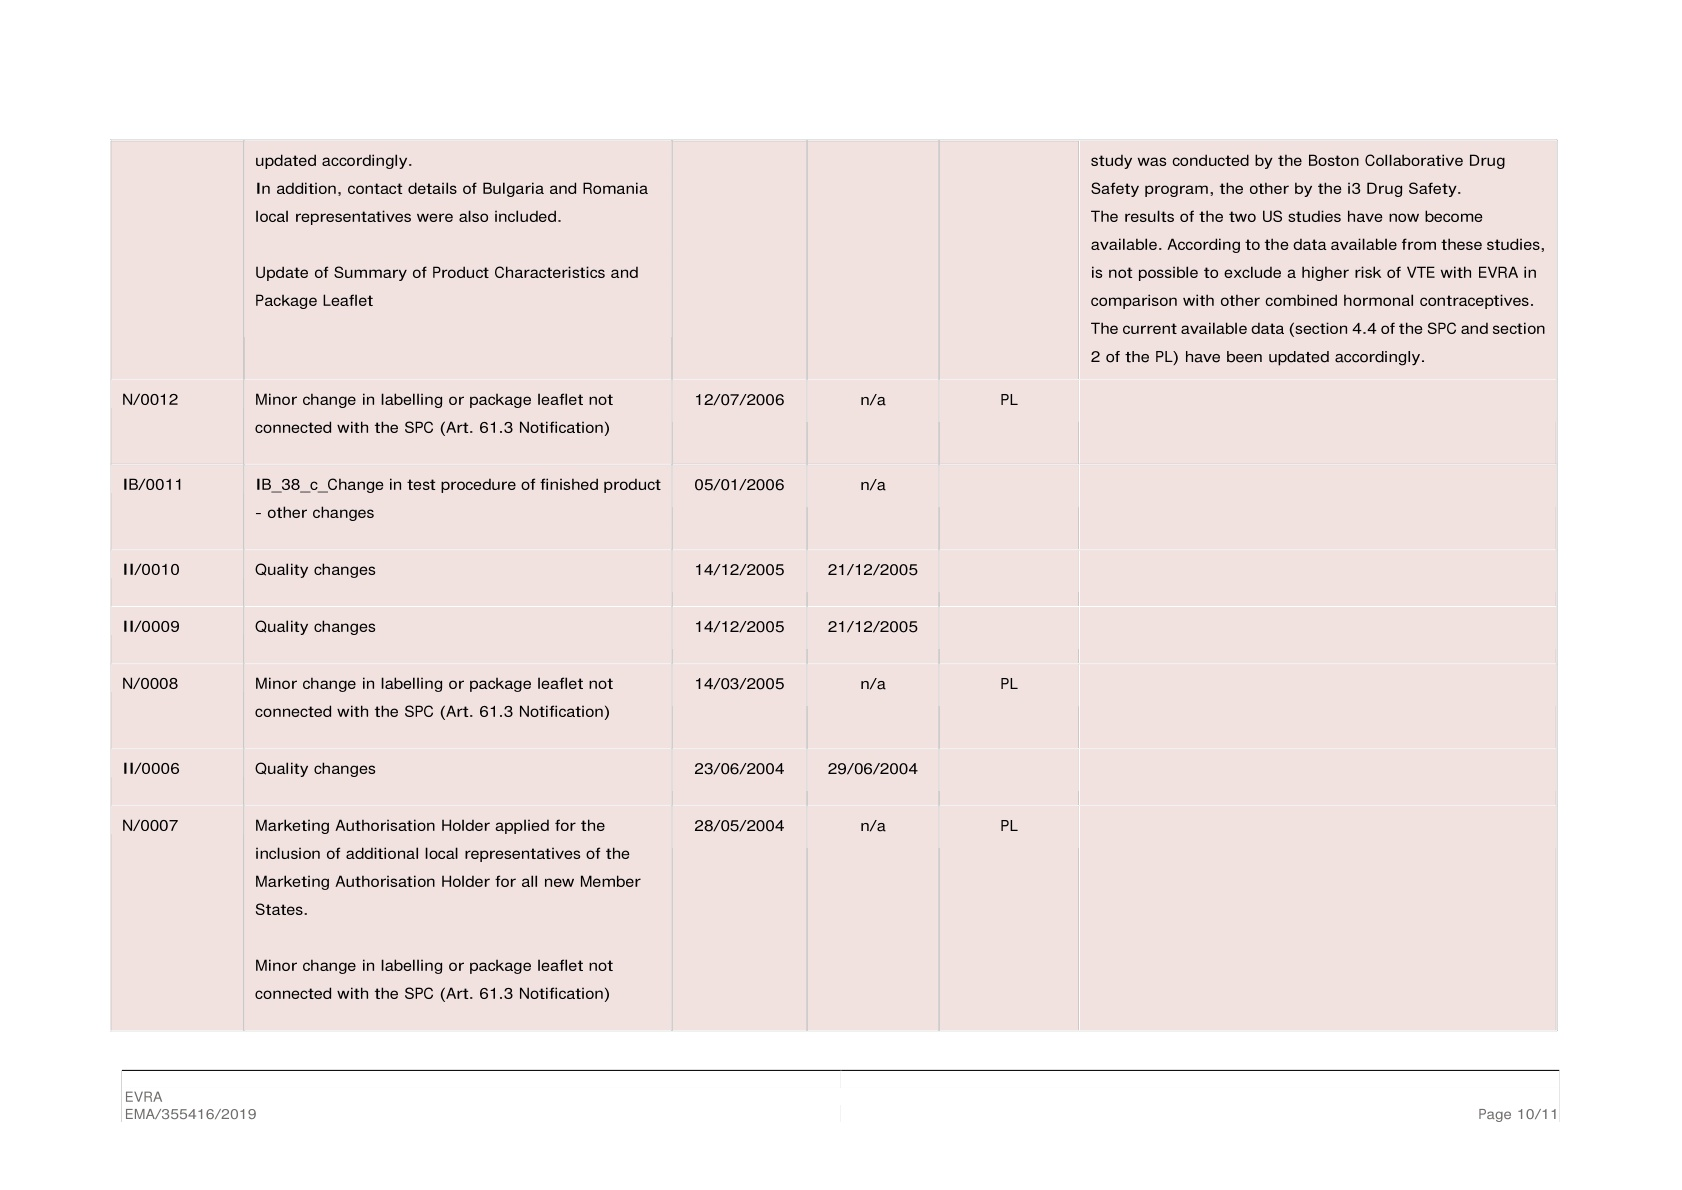full_lined: (109, 138, 1558, 1032)
